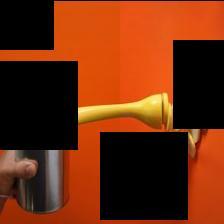yellow: (46, 92, 163, 132), (21, 119, 53, 131)
